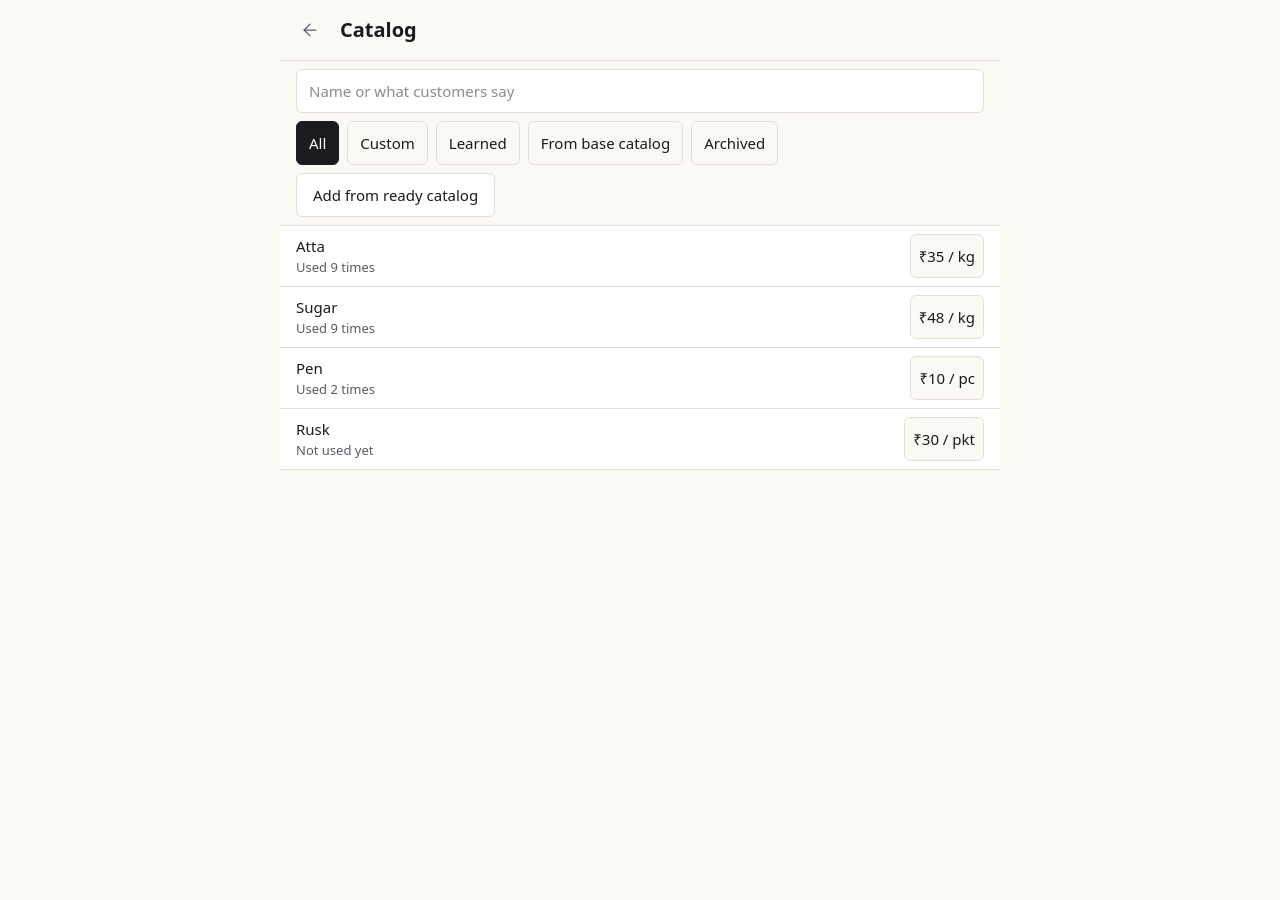
Test case: KB-311 - S4 Catalog › a price that isn't money is refused with the reason - nothing is saved
The image size is (1280, 900).
expect the list named "Products" is shown: met, box [280,226,1000,470]
Click the button with aria-label "Price of Sugar" at (947, 317), box [910,295,984,339]
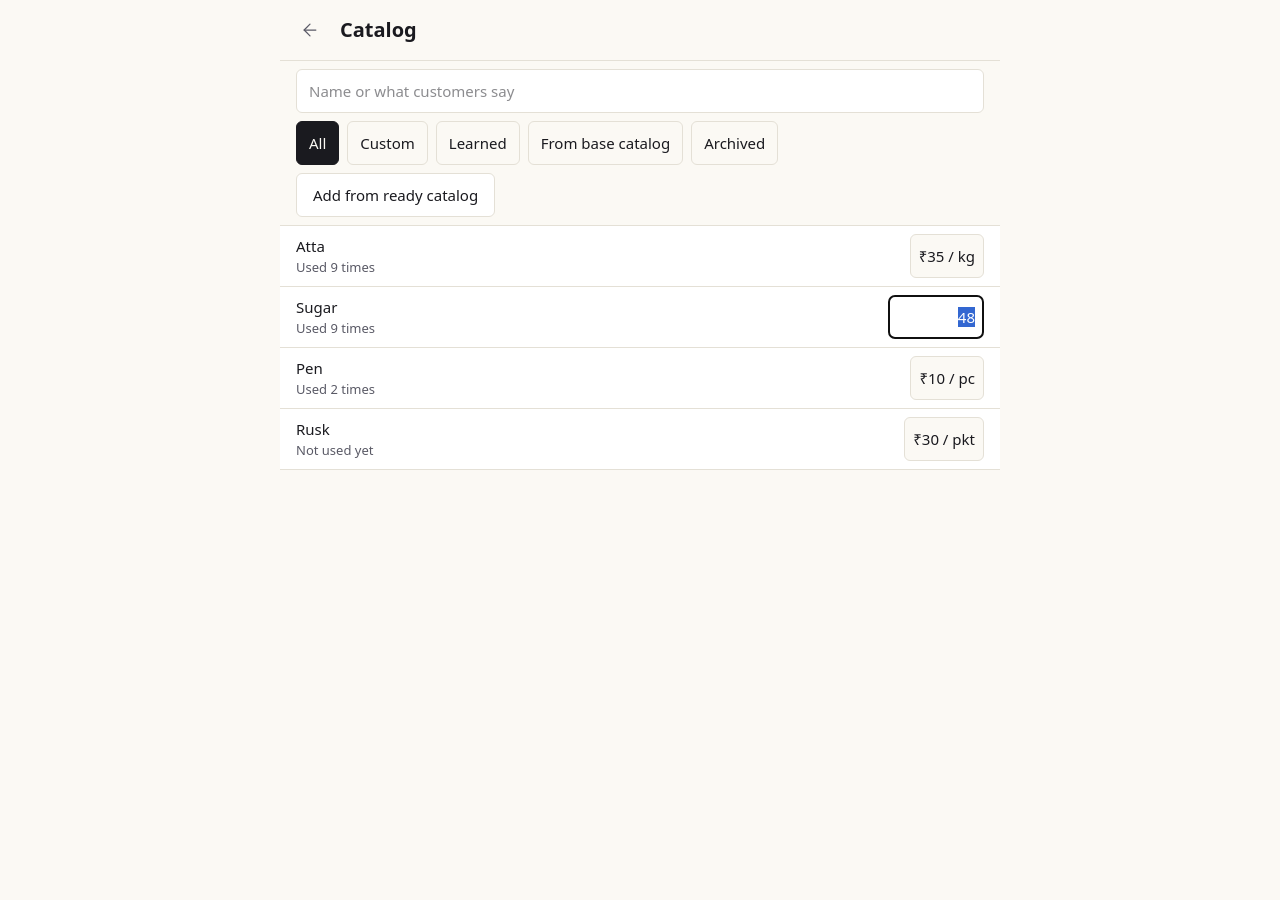
Replace the text in the field named "Price of Sugar" with "0" at (936, 317), box [888,295,984,339]
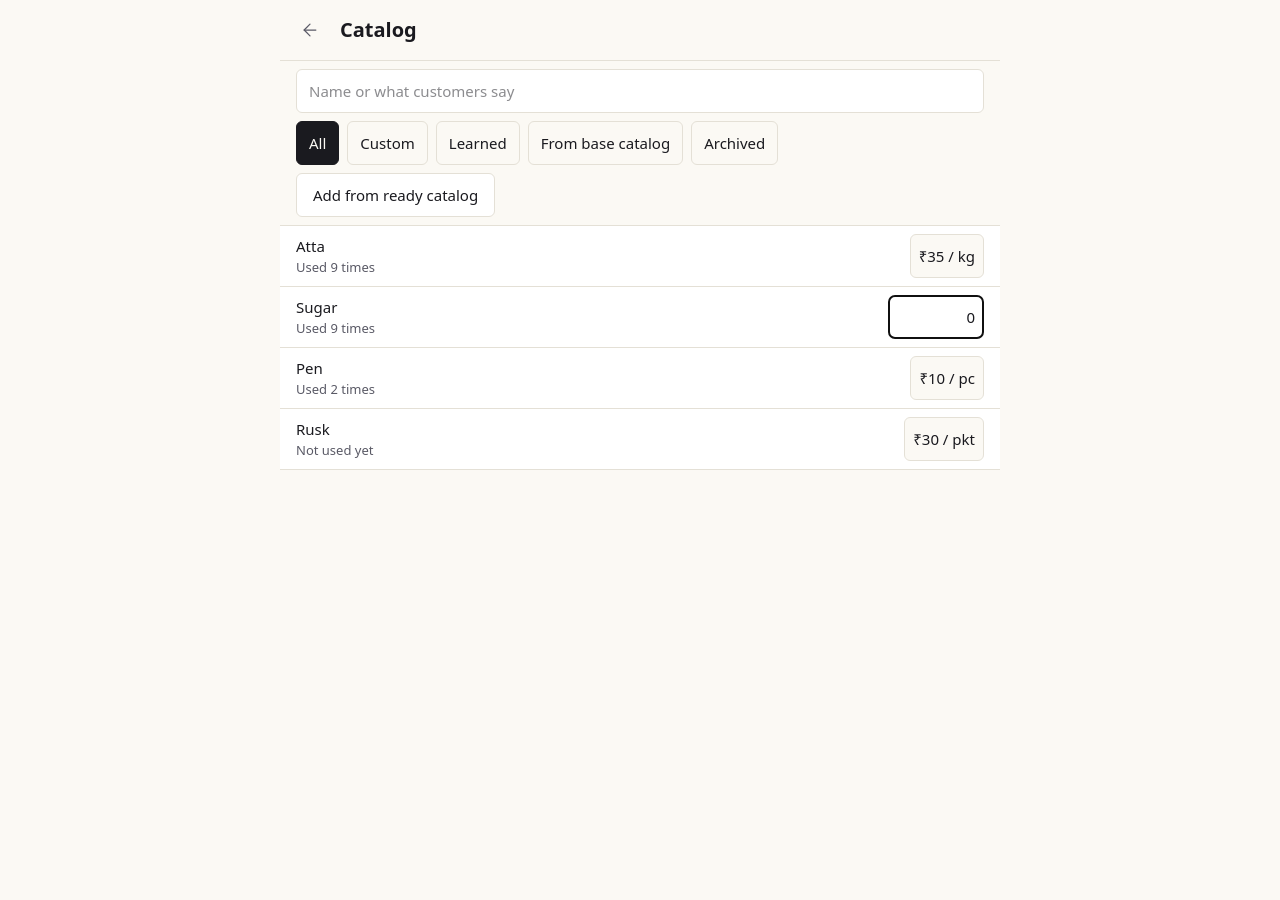
Press Enter in the field named "Price of Sugar", box [888,295,984,339]
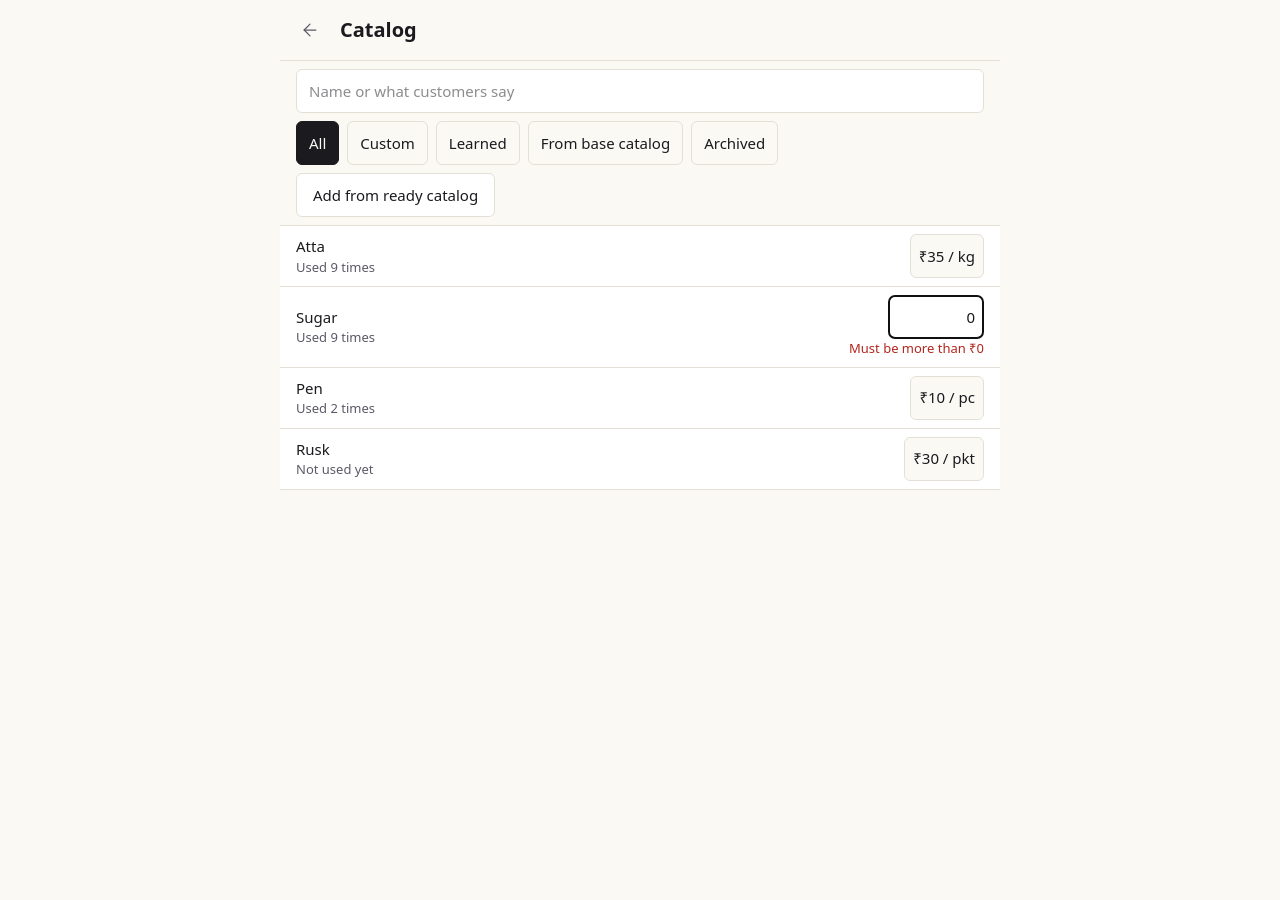
expect the message reads "Must be more than ₹0": met, box [849,339,984,357]
